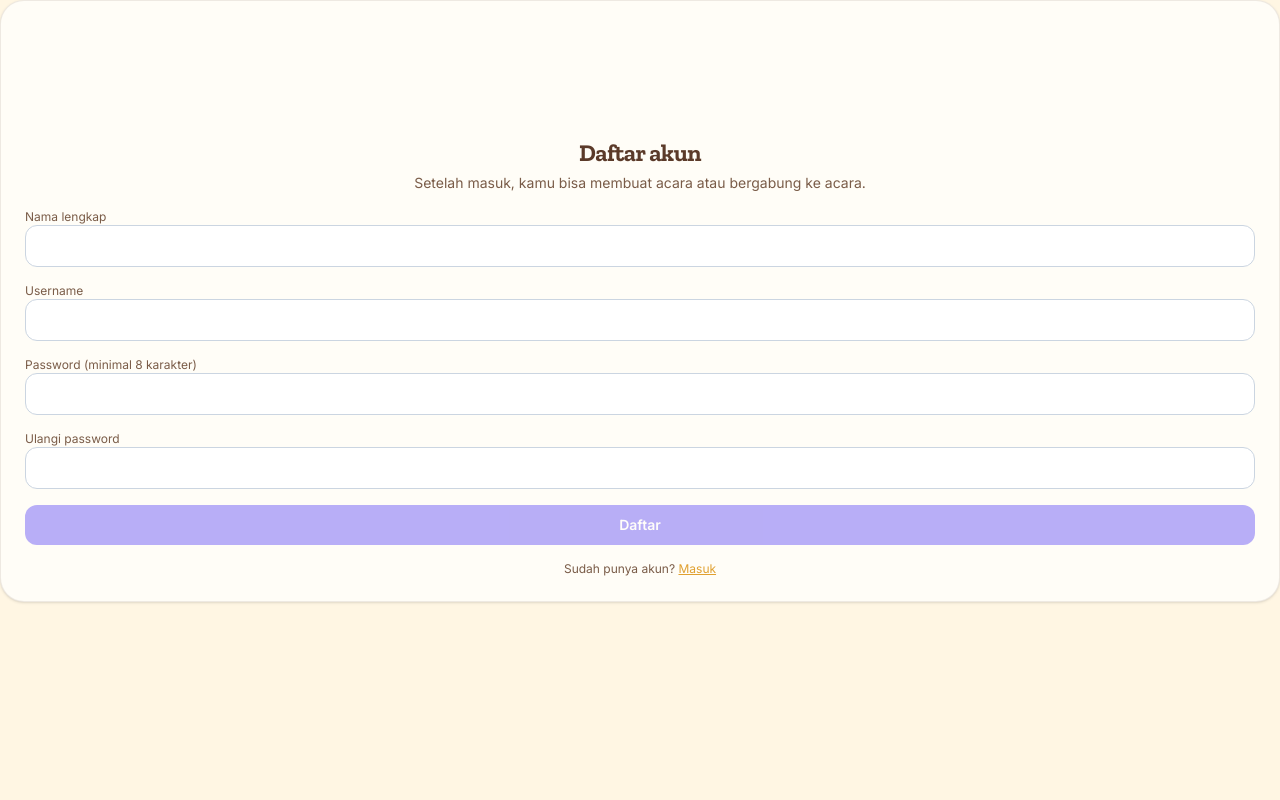
DaftarForm › password dan ulangnya tidak sama: pesan galat muncul dan akun tidak dibuat
This screenshot has width=1280, height=800.
Type "Uji" into the field labelled "Nama lengkap" at (640,246), box x1=25 y1=225 x2=1255 y2=267
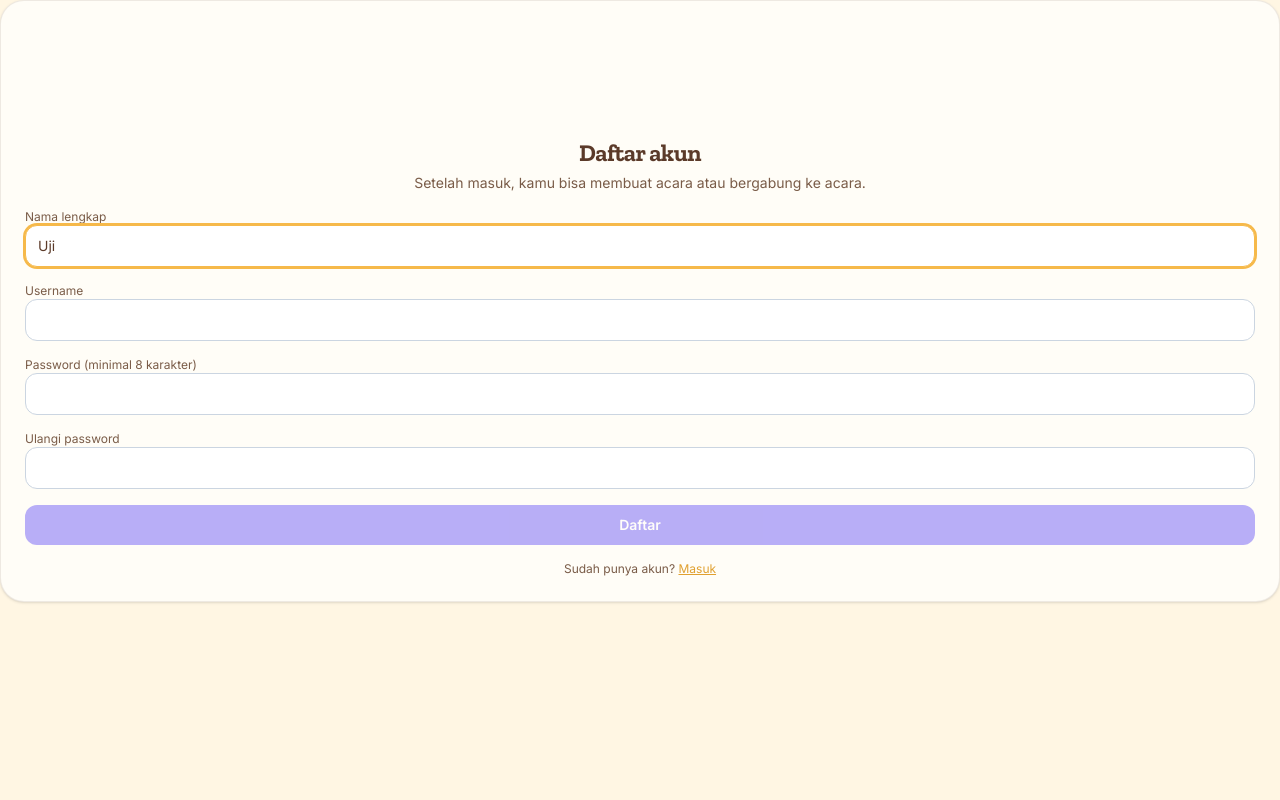
Type "uji_user" into the field labelled "Username" at (640,320), box x1=25 y1=299 x2=1255 y2=341
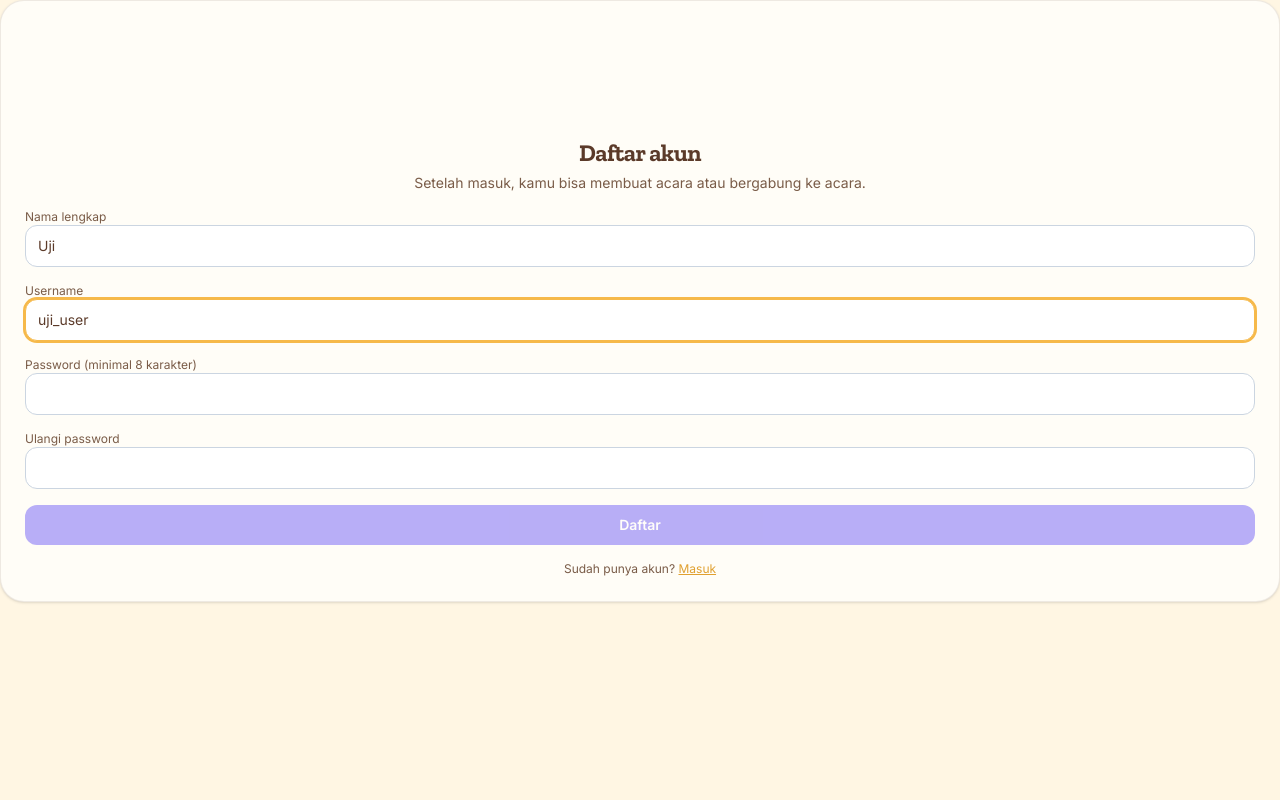
Type "sandi-satu-2031" into the password field labelled "Password (minimal 8 karakter)" at (640,394), box x1=25 y1=373 x2=1255 y2=415
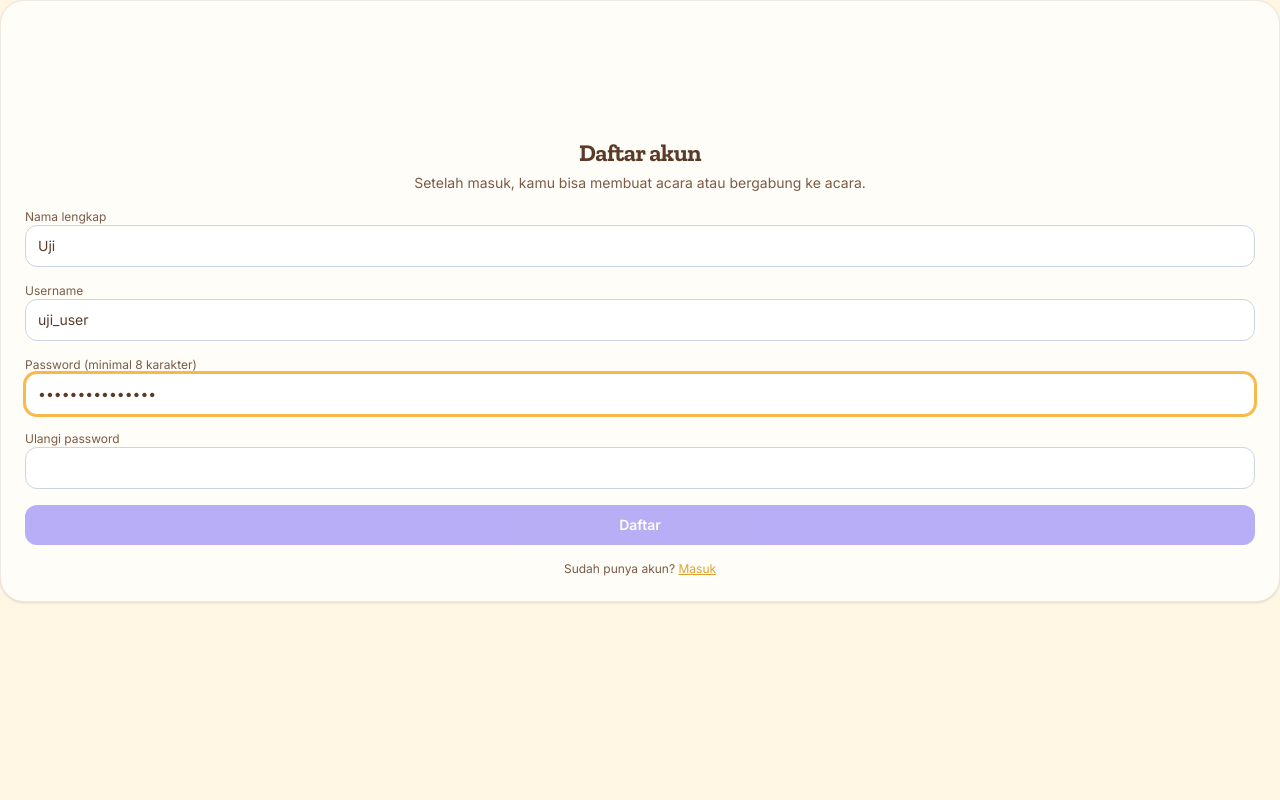
Type "sandi-dua-2031" into the password field labelled "Ulangi password" at (640,468), box x1=25 y1=447 x2=1255 y2=489
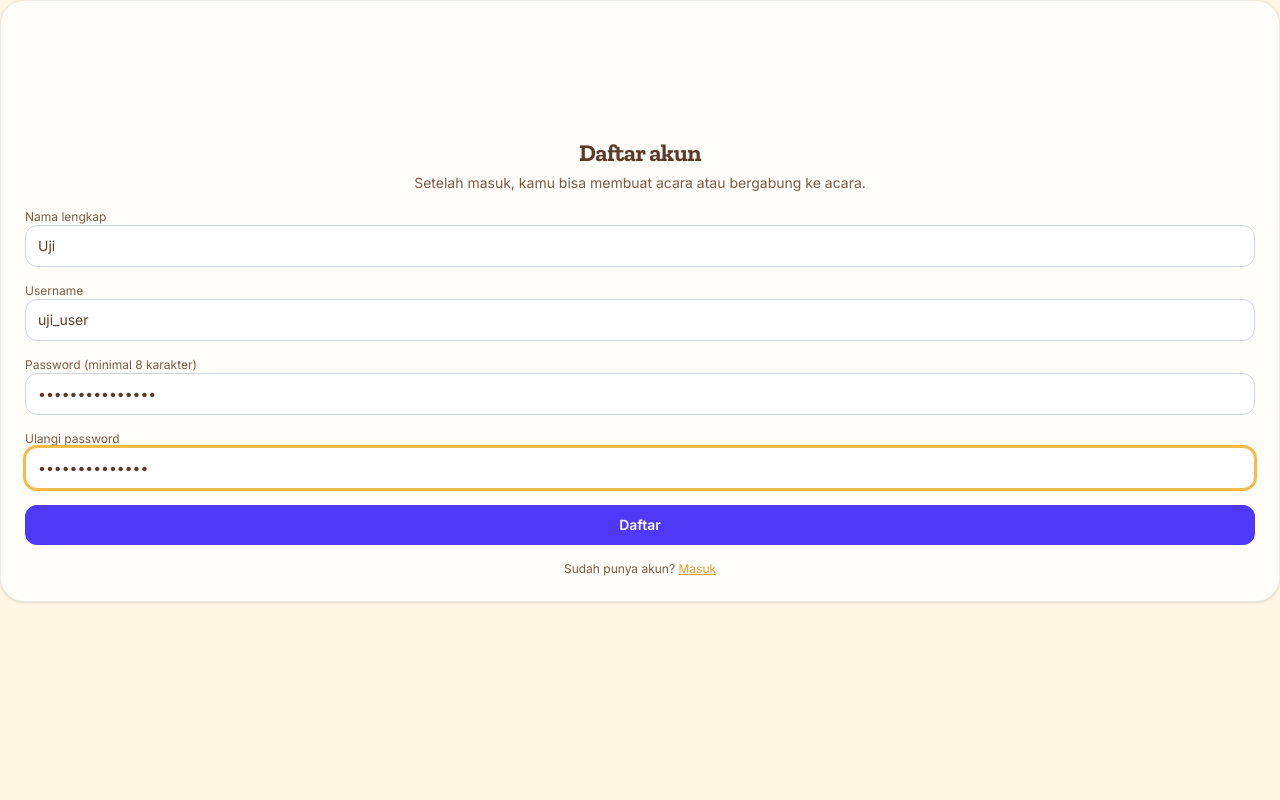
Click the button "Daftar" at (640,525), box x1=25 y1=505 x2=1255 y2=545
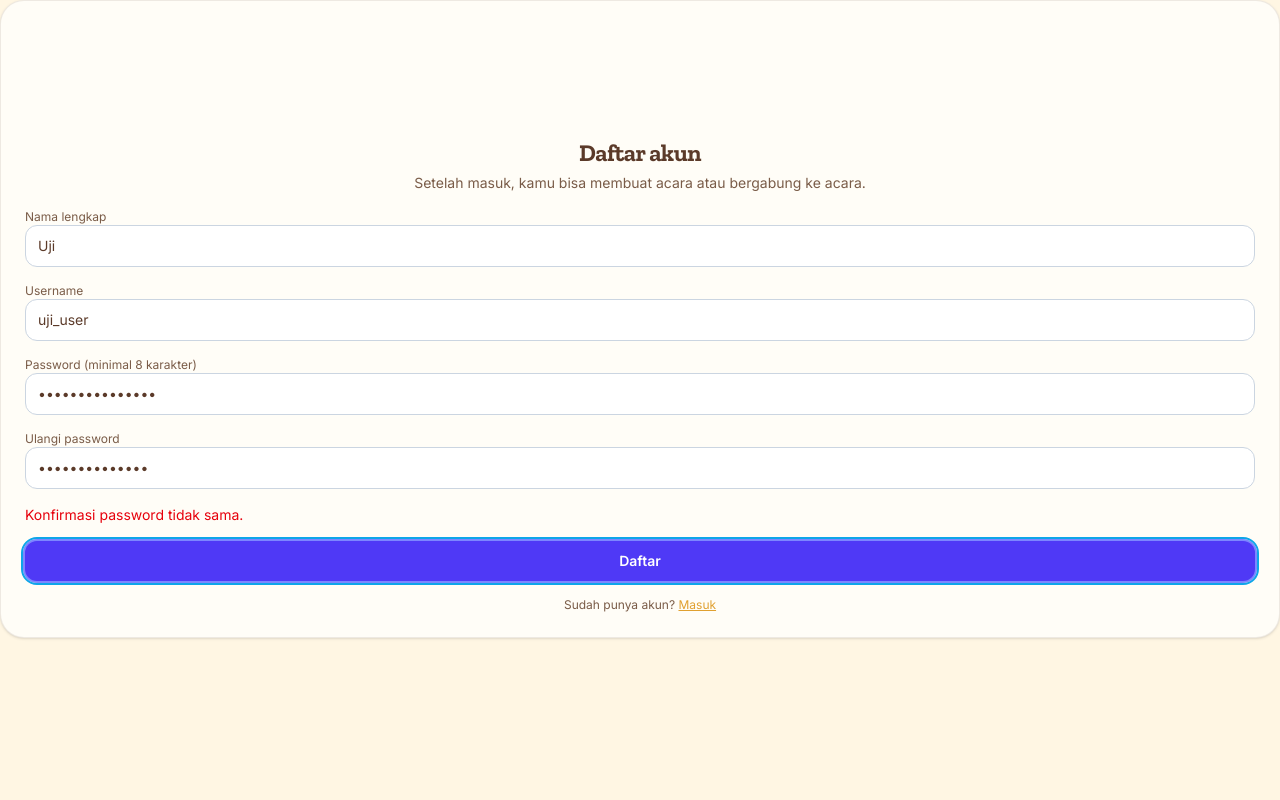
expect the message reads "Konfirmasi password tidak sama.": met, box x1=25 y1=506 x2=243 y2=523
